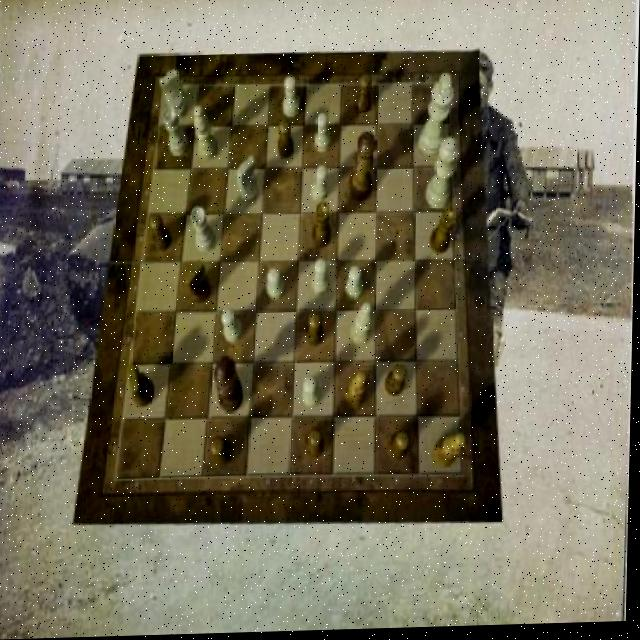bishop: (436, 437, 470, 472), (347, 374, 370, 415)
black-bishop: (214, 357, 245, 416)
black-king: (185, 261, 213, 306), (128, 365, 156, 409)
black-knight: (150, 215, 173, 253), (387, 367, 410, 400), (213, 437, 236, 469), (390, 433, 413, 465), (355, 76, 373, 116), (279, 121, 296, 161), (308, 314, 326, 349), (307, 431, 327, 460)
black-pawn: (349, 134, 377, 206)
black-queen: (432, 209, 459, 256), (314, 204, 334, 252)
black-rook: (194, 106, 219, 161), (352, 305, 375, 350)
white-bishop: (418, 77, 455, 159)
white-king: (159, 69, 189, 121), (238, 157, 261, 206)
white-knight: (223, 309, 246, 344), (284, 78, 302, 120), (313, 262, 332, 298), (316, 115, 333, 154), (267, 270, 287, 303), (313, 168, 331, 204), (304, 379, 323, 412), (349, 268, 366, 303)
white-pawn: (426, 140, 460, 212)
white-queen: (163, 109, 190, 157), (192, 207, 218, 254)
